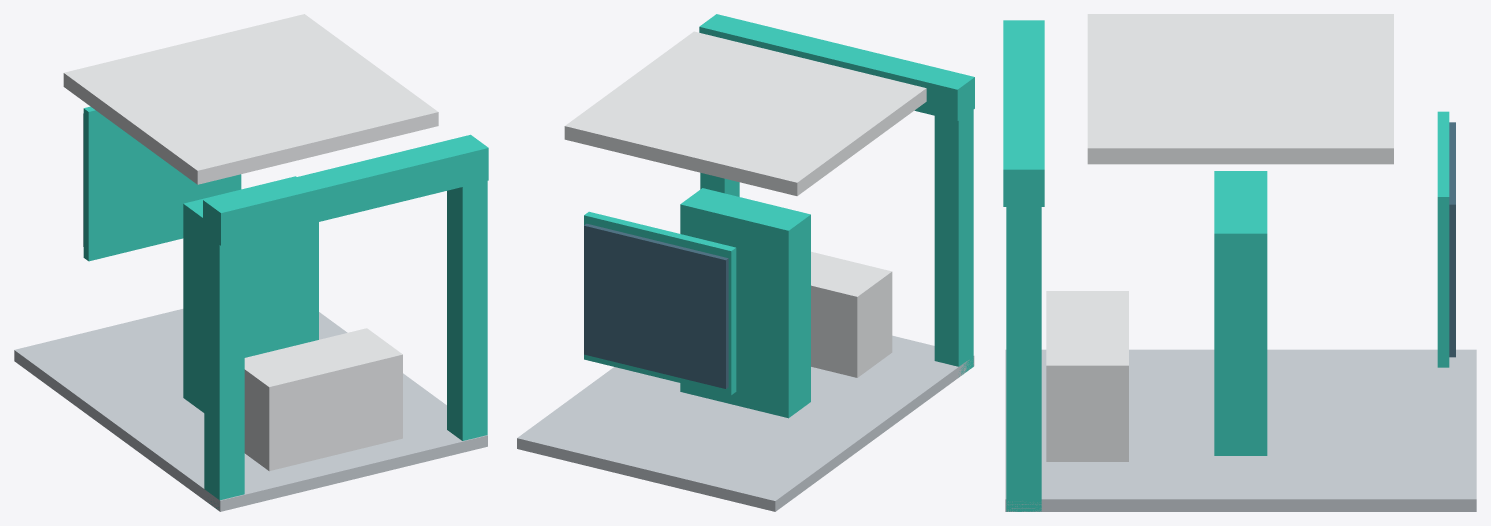
3 views of the same model, side by side, from view 1: azimuth 30°, elevation 25°; view 2: azimuth 150°, elevation 25°; view 3: azimuth 270°, elevation 25° (orthographic). The views are drawn at different scales.
Parts seen in each view (by area): view 1: Exhibition Booth Concept; view 2: Exhibition Booth Concept; view 3: Exhibition Booth Concept.
Part boxes in pixels (box(x1,y1,x2,y2)): Exhibition Booth Concept: box(14, 14, 488, 511); Exhibition Booth Concept: box(517, 14, 974, 511); Exhibition Booth Concept: box(1003, 14, 1476, 511).
Size of the model in its own units: 3 by 3.34 by 4.02.
